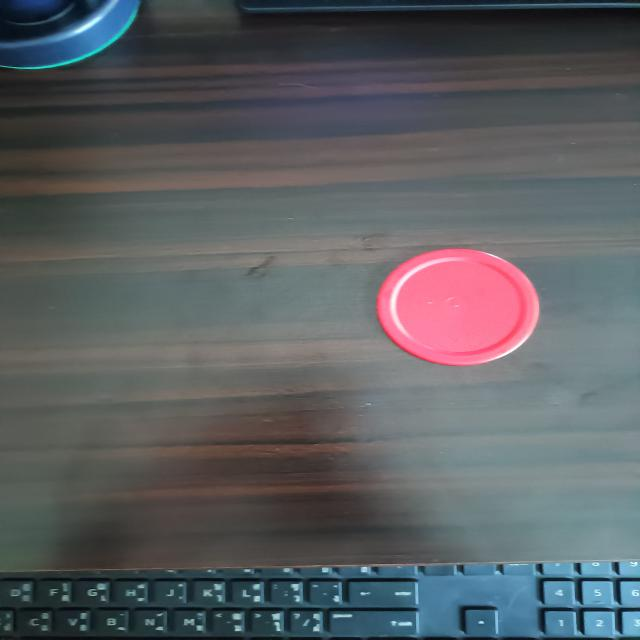chip: (372, 248, 540, 368)
